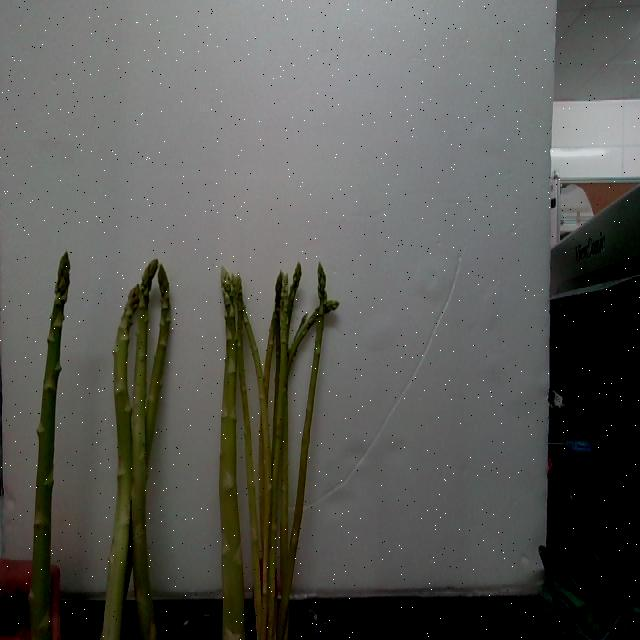aspargus: (31, 255, 73, 640), (102, 282, 137, 640)
